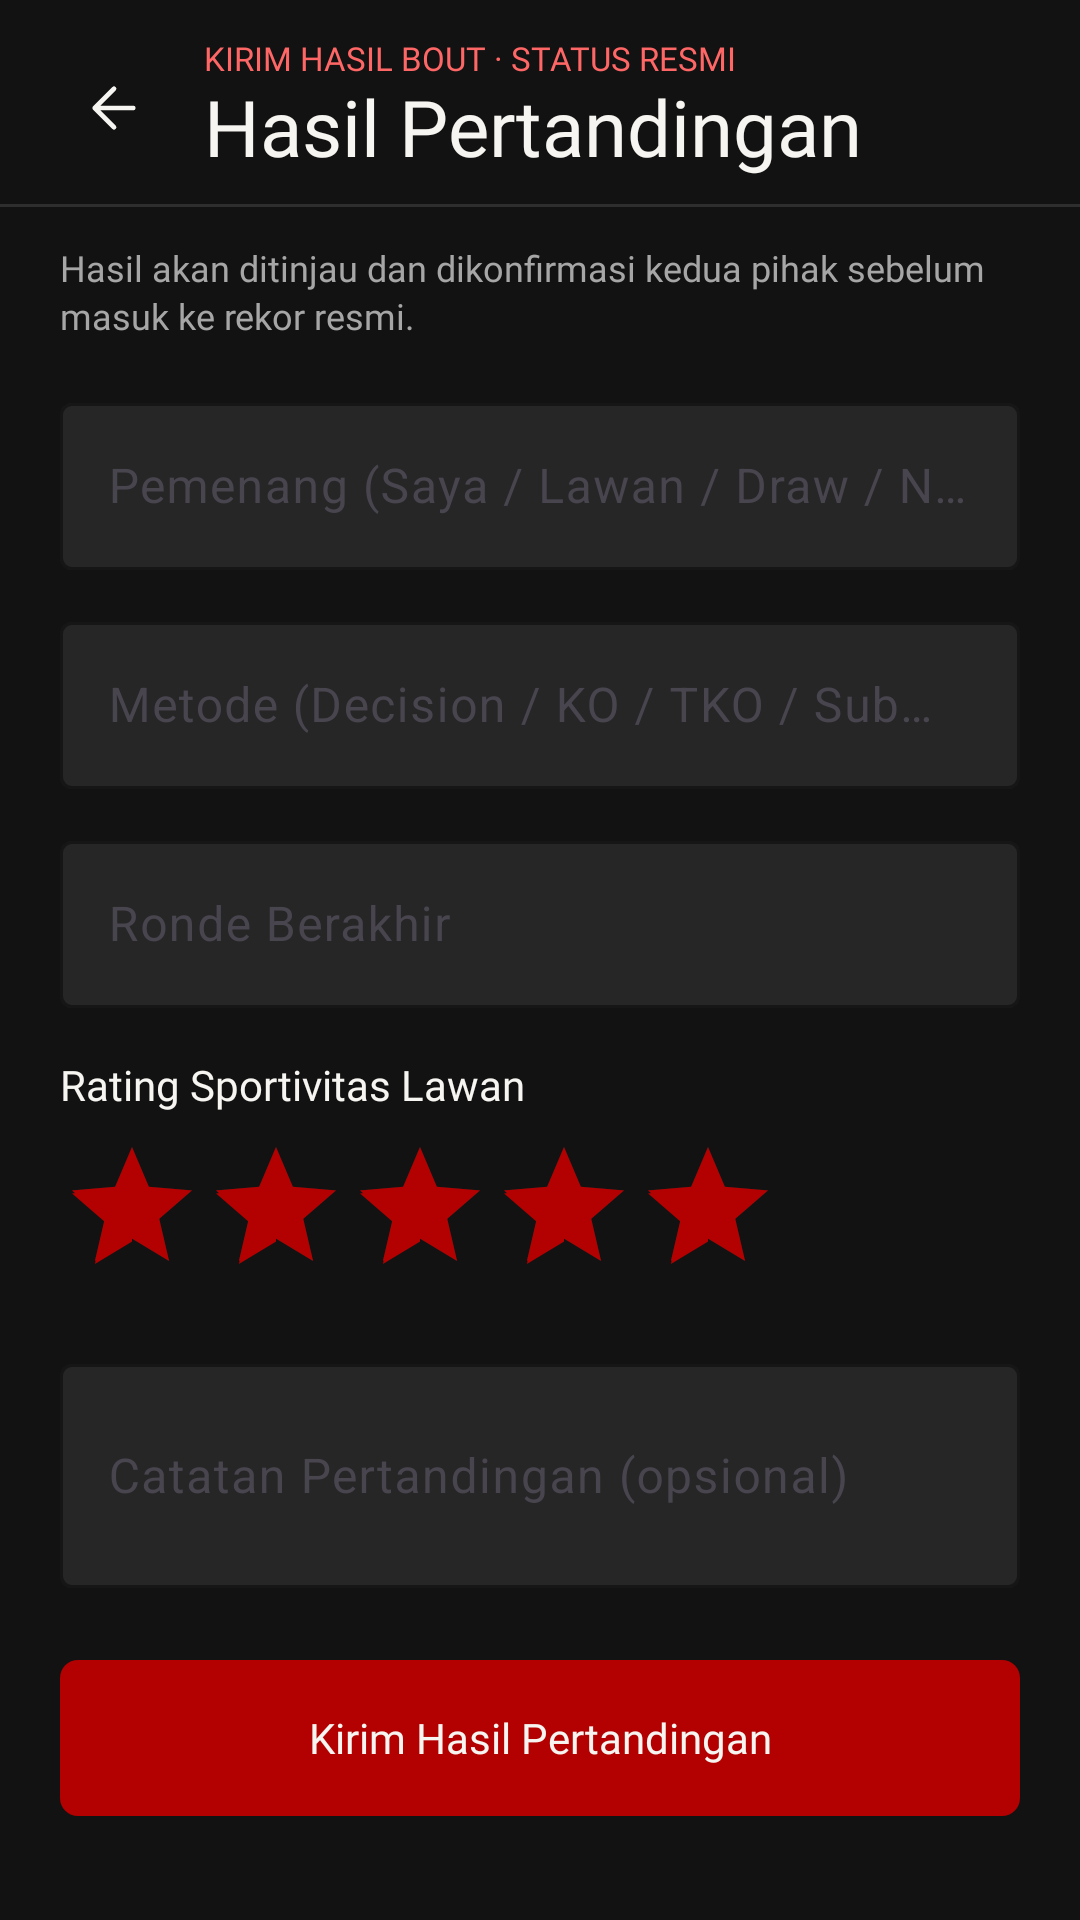

Icon bounding boxes for this 1080w x 1920h phone screenshot, format bbox=[x1, y1, x2, y2]:
Kembali: bbox=[92, 86, 136, 130]
